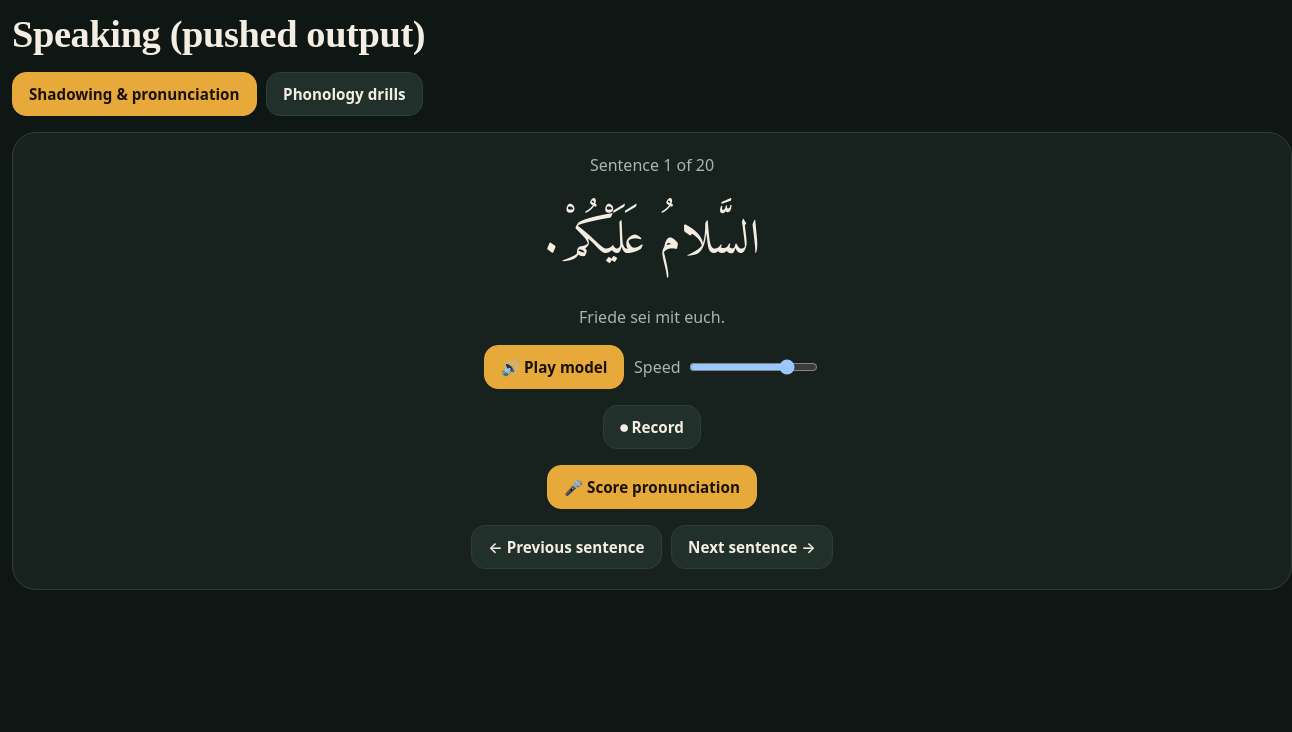
Test case: practice modules in English (integration) › switches the speaking page to English, help texts included
The image size is (1292, 732).
Expected: the heading "Speaking (pushed output)" is shown, [12,13,425,55]
Expected: the text "Sentence 1 of 20" is shown, [590,153,714,177]
Click the button "Phonology drills". click: x=344, y=94
box: [266,72,423,116]
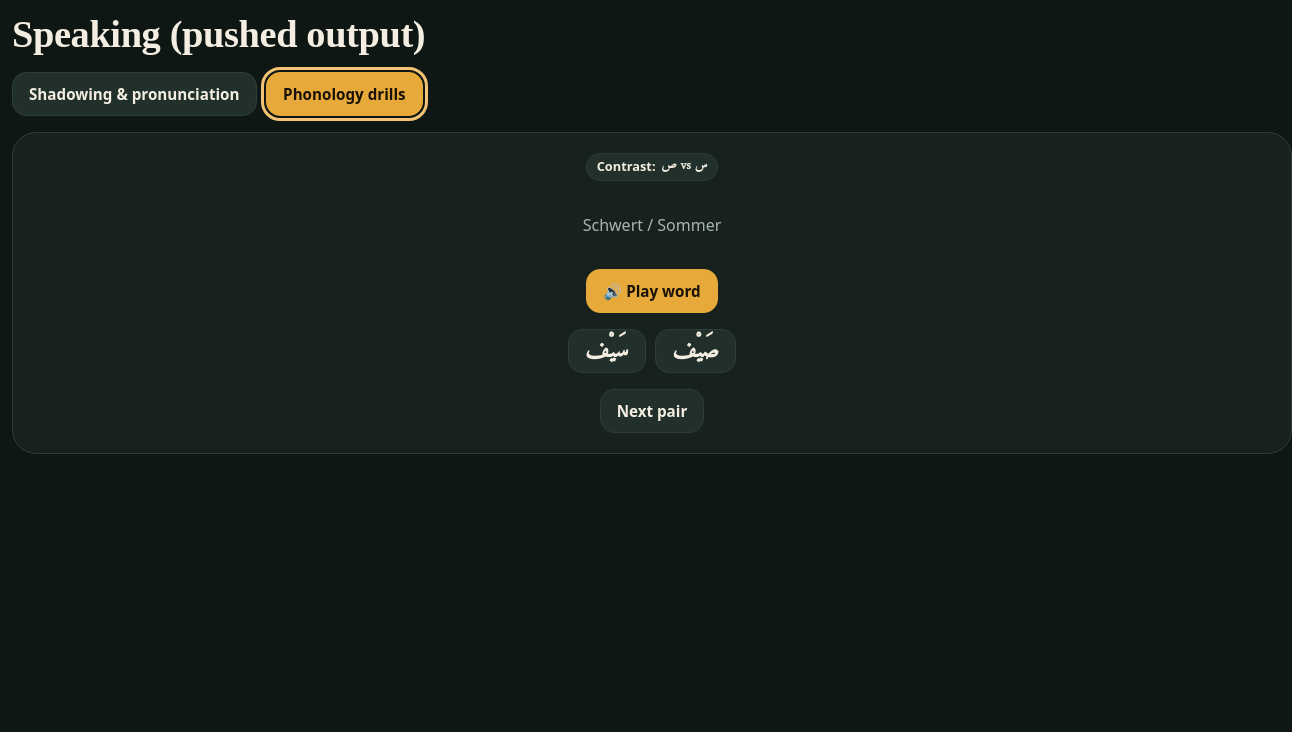
Expected: the button "Next pair" is shown, [600,389,704,433]
